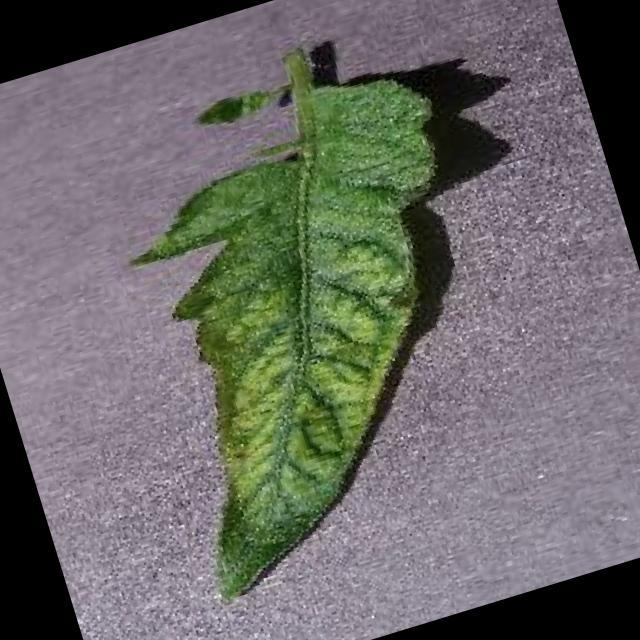Tomato mosaic virus leaf: (85, 53, 560, 610)
